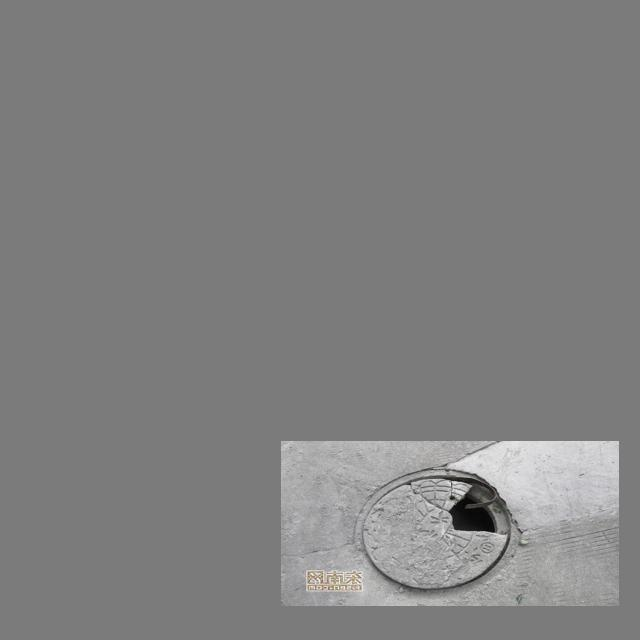broke: (351, 464, 525, 596)
